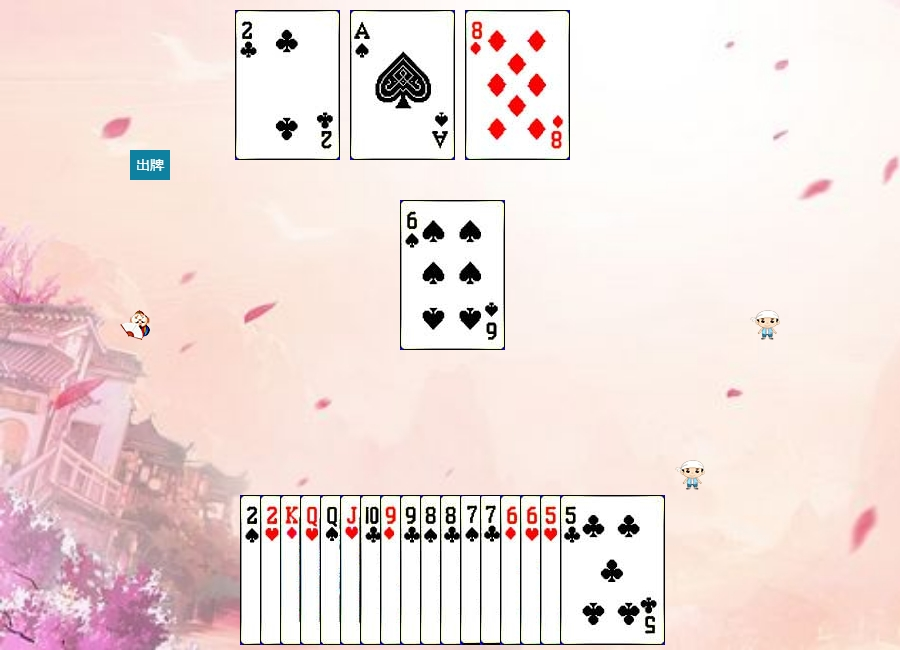10~2: (360, 495, 465, 645)
11~3: (340, 495, 445, 645)
12~3: (300, 495, 405, 645)
12~4: (320, 495, 425, 645)
13~1: (280, 495, 385, 645)
14~4: (350, 10, 455, 160)
15~2: (235, 10, 340, 160)
15~3: (260, 495, 365, 645)
15~4: (240, 495, 345, 645)
5~2: (560, 495, 665, 645)
5~3: (540, 495, 645, 645)
6~1: (500, 495, 605, 645)
6~3: (520, 495, 625, 645)
6~4: (400, 200, 505, 350)
7~2: (480, 495, 585, 645)
7~4: (460, 495, 565, 645)
8~1: (465, 10, 570, 160)
8~2: (440, 495, 545, 645)
8~4: (420, 495, 525, 645)
9~1: (380, 495, 485, 645)
9~2: (400, 495, 505, 645)
